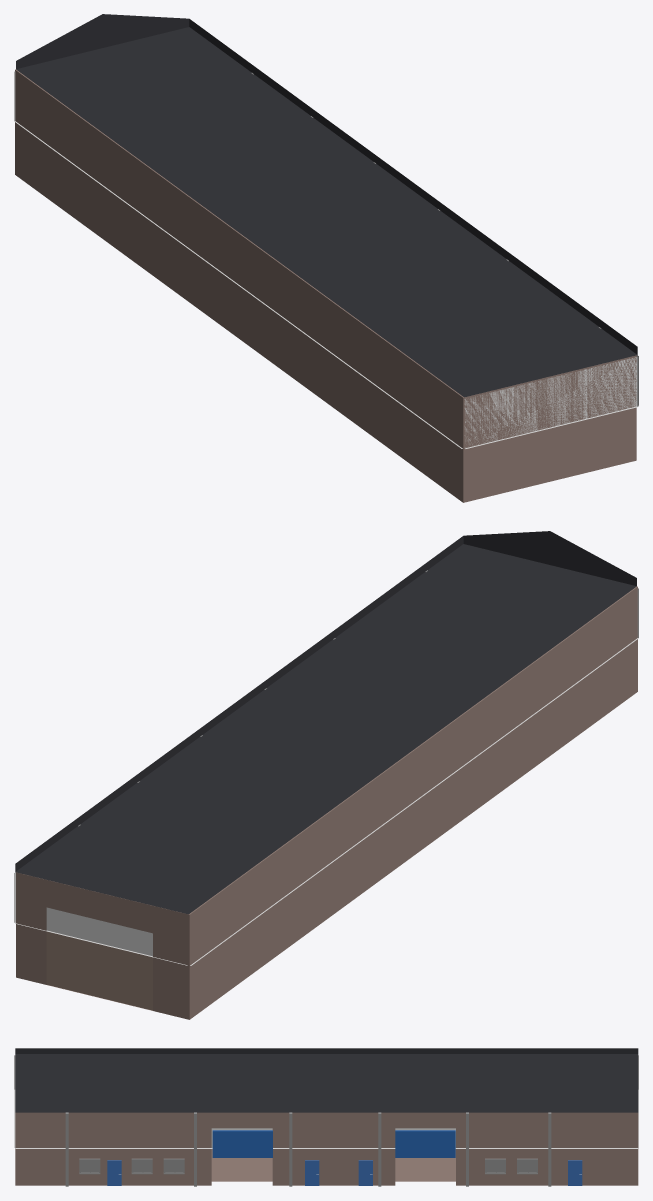
The model's file is warehouse1.glb.
3 renders of one model, top to bottom at view 1: azimuth 30°, elevation 25°; view 2: azimuth 150°, elevation 25°; view 3: azimuth 270°, elevation 25°, orthographic. The views are drawn at different scales.
Parts seen in each view (by area): view 1: Cube.030; view 2: Cube.030; view 3: Cube.030.
Part boxes in pixels (x1=…): Cube.030: x1=14, y1=14, x2=638, y2=502; Cube.030: x1=14, y1=531, x2=638, y2=1019; Cube.030: x1=14, y1=1048, x2=638, y2=1186.
Bounding box in the file's own units: 31.89 × 23.7 × 139.
